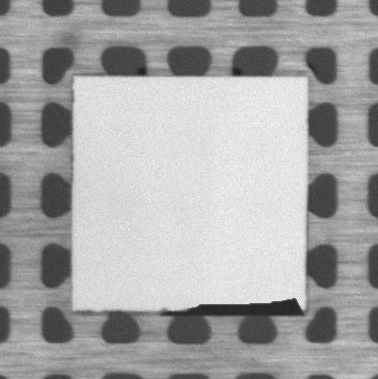DIE_BROKEN: (164, 292, 306, 317)
